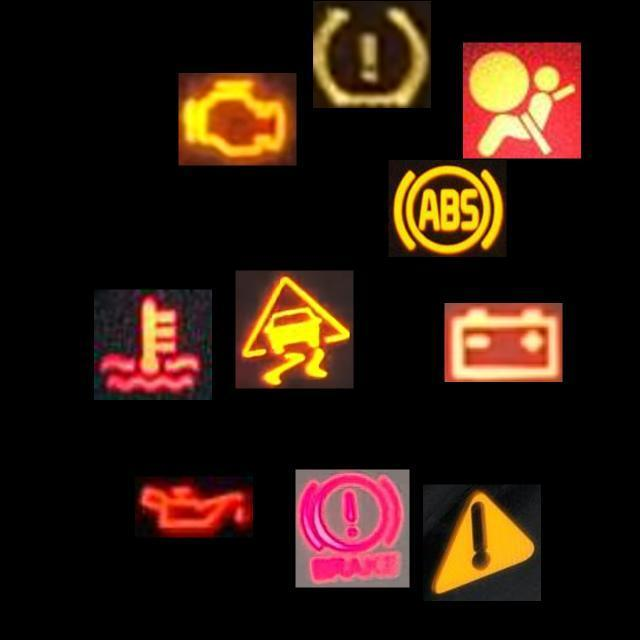Central Warning lamp: (423, 484, 541, 602)
Engine cooling system: (94, 290, 212, 400)
